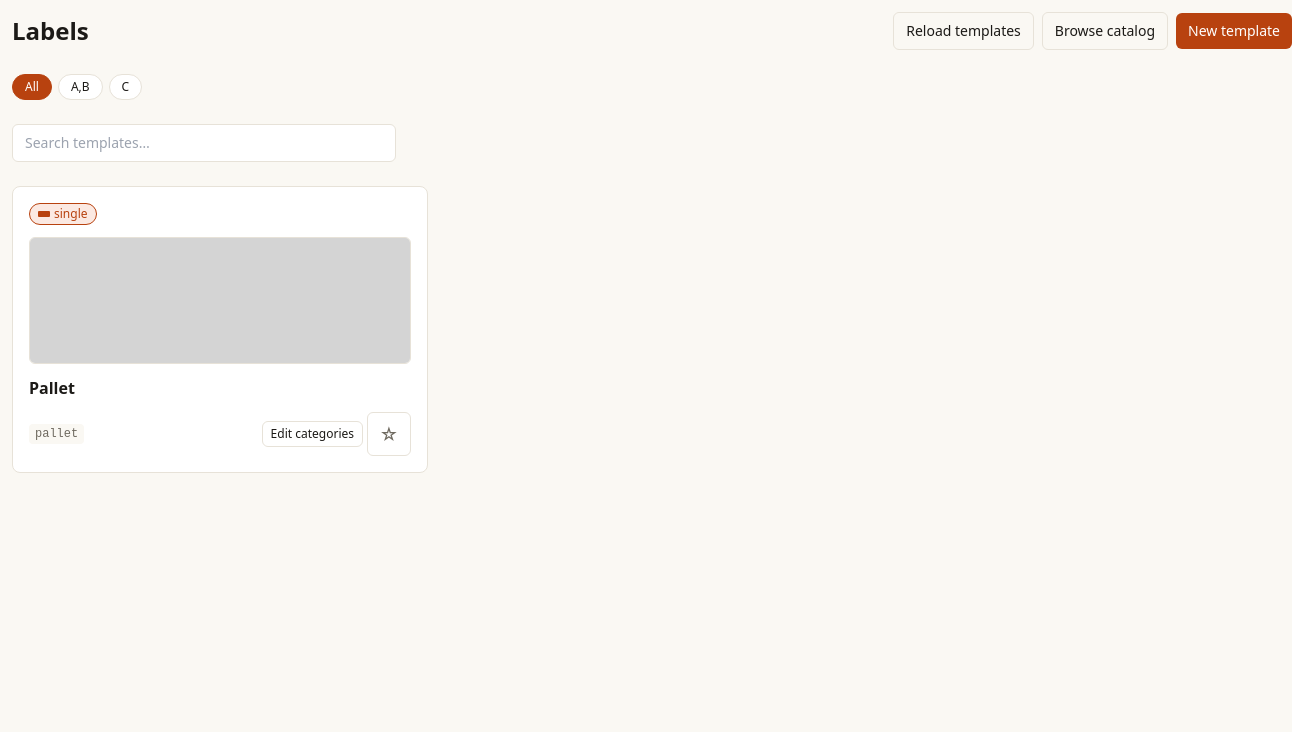
Test case: Templates list › keeps comma-bearing category strings as separate entries
Expected: the heading "Pallet" is shown, [29,377,75,399]
Click the button "Edit categories".
click(312, 434)  # box [262,421,363,447]
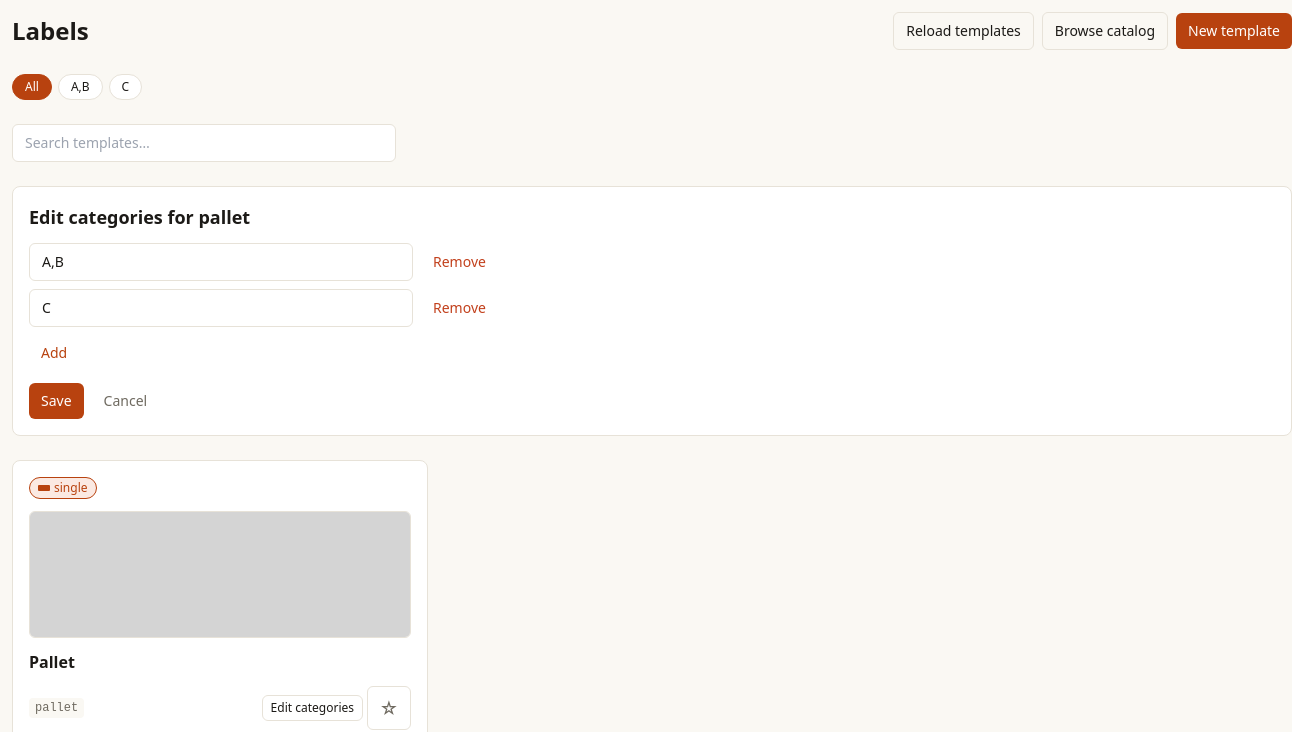
Expected: the number of fields named "Category 1" is 2, [29,243,413,281]; [29,289,413,327]
Expected: the field named "Category 1" holds "A,B", [29,243,413,281]
Expected: the field named "Category 2" holds "C", [29,289,413,327]
